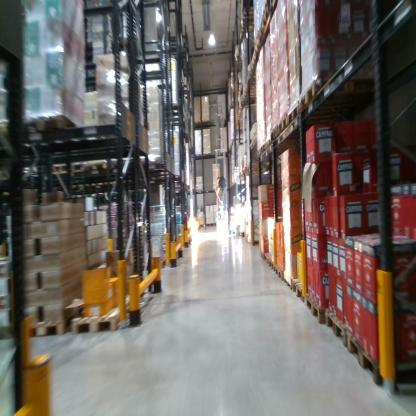pallet: (346, 323, 415, 390), (298, 68, 384, 116), (24, 295, 97, 342), (71, 288, 141, 337), (12, 108, 82, 149), (302, 292, 337, 322), (325, 306, 346, 350), (78, 158, 108, 177), (292, 277, 310, 305), (113, 35, 135, 57), (254, 18, 270, 46), (286, 99, 301, 127), (278, 114, 289, 139), (260, 5, 272, 27), (284, 268, 293, 293), (46, 158, 59, 175), (264, 132, 273, 155), (270, 121, 279, 141), (269, 257, 278, 272), (276, 266, 284, 282), (260, 249, 271, 259), (261, 142, 266, 155), (266, 255, 271, 267), (256, 148, 262, 157)
